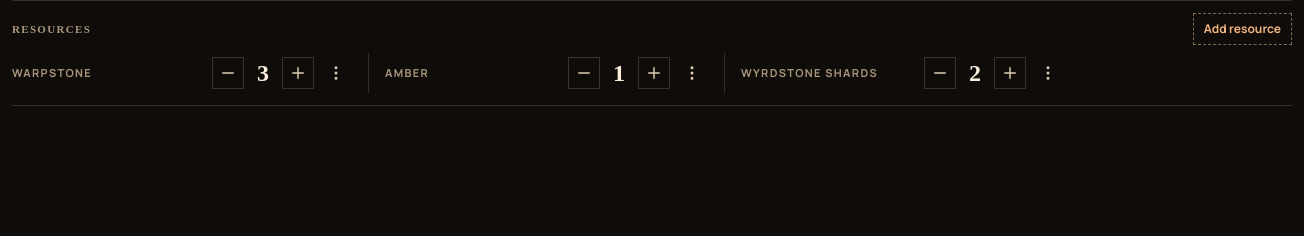
Test: Sell › names the resource being sold
Step 1. Click the button named "Amber actions" → x=692, y=73, box [676, 57, 708, 89]
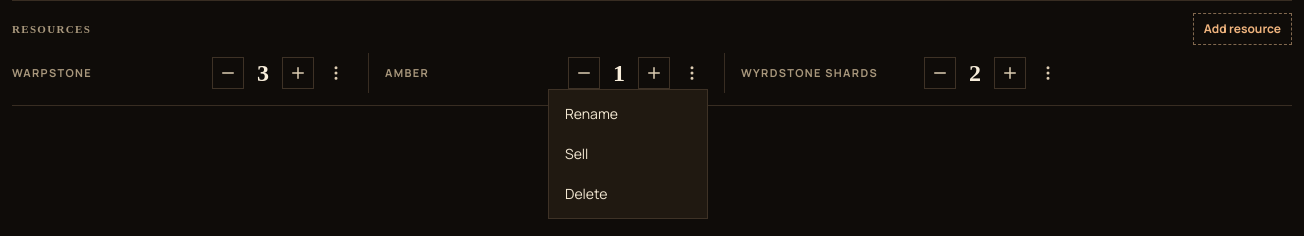
Step 2. Click the menu item "Sell" → x=577, y=154, box [565, 144, 588, 163]
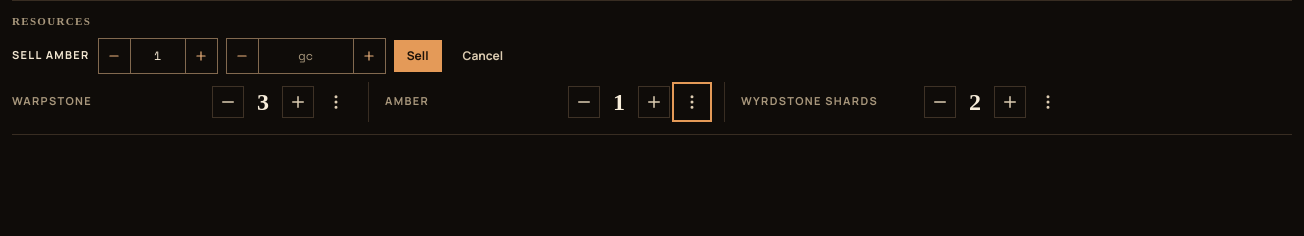
Expected: the form "Sell Amber" is shown, [12, 38, 516, 74]
